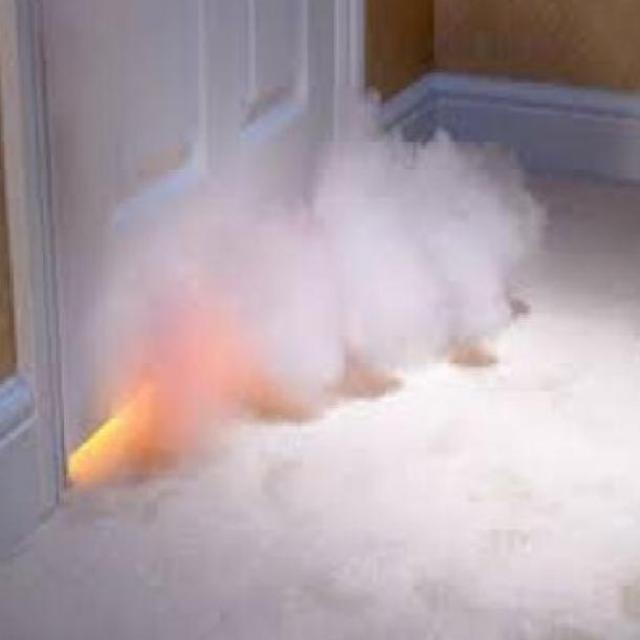fire: (105, 92, 548, 450)
